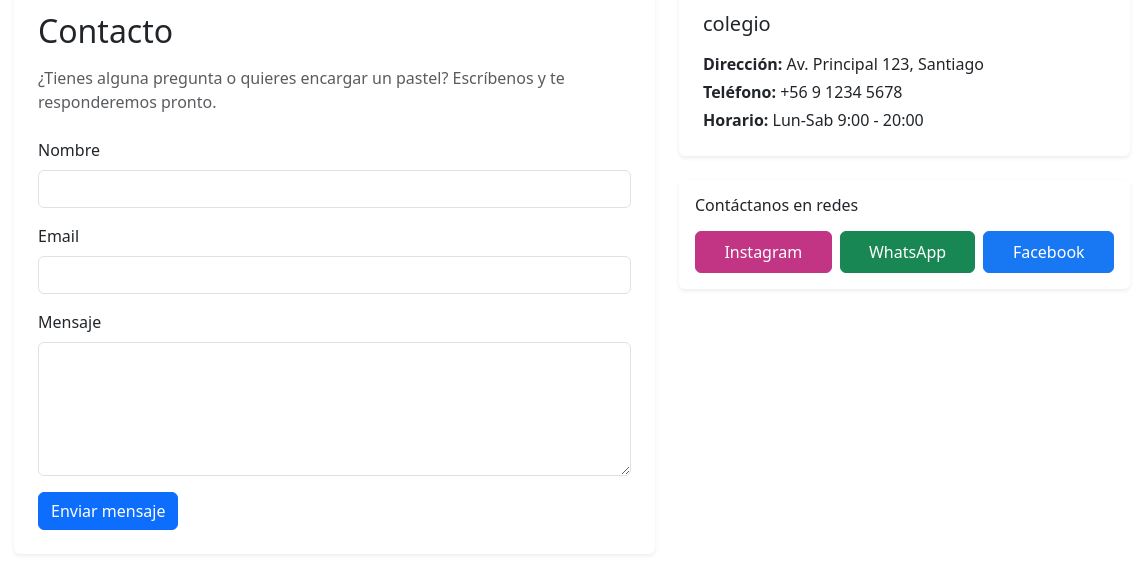
Test: Contacto page › debe enviar el formulario con datos válidos
This screenshot has width=1145, height=573.
Step 1. Type "Juan Pérez" into the field labelled "Nombre" → (334, 189), box [38,170,631,208]
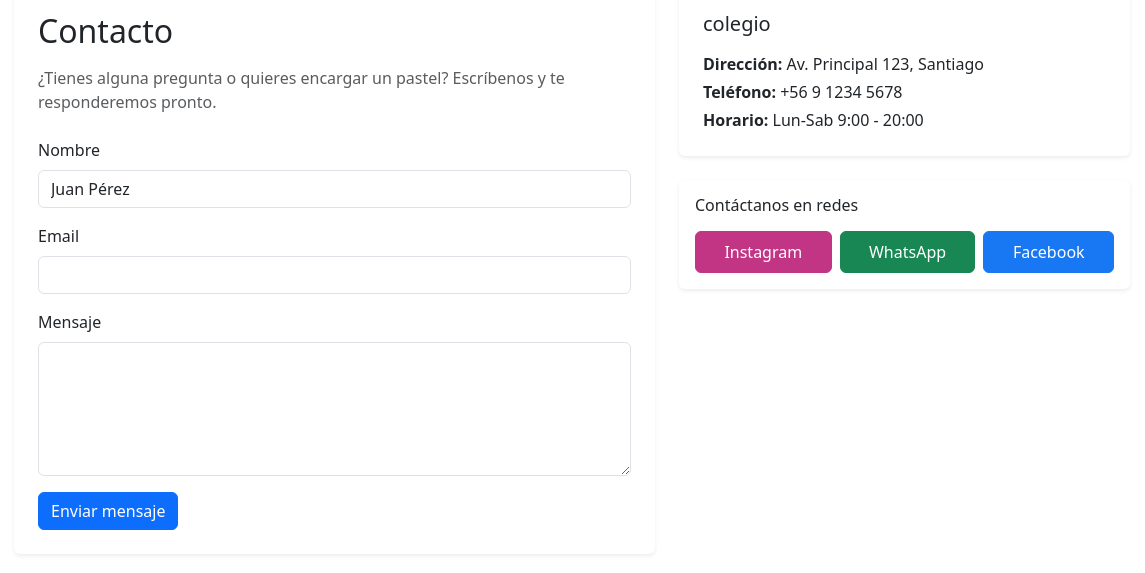
Step 2. Type "juan@example.com" into the field labelled "Email" → (334, 275), box [38,256,631,294]
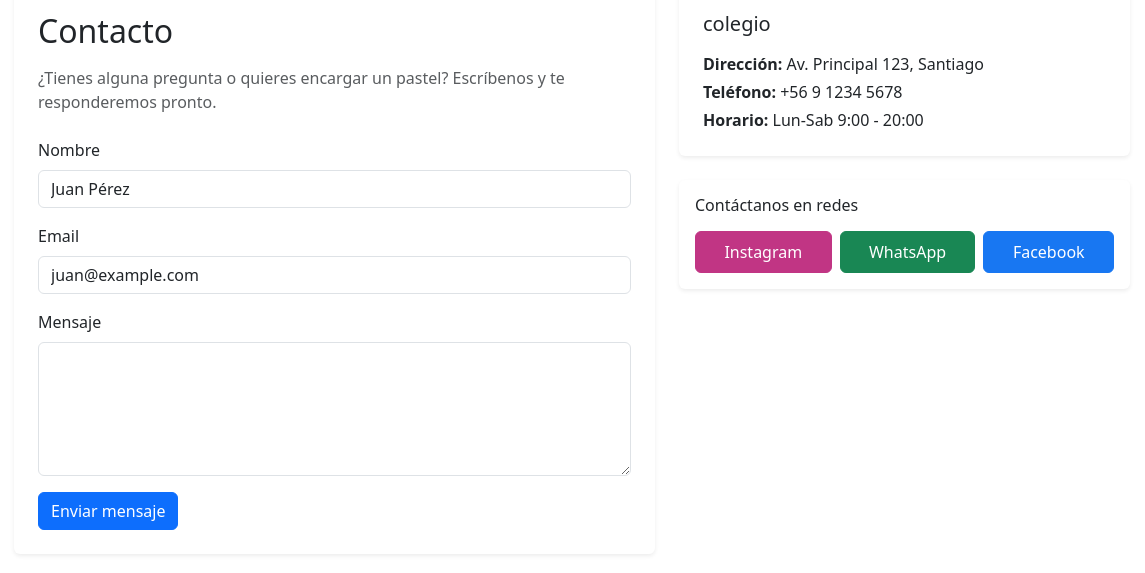
Step 3. Type "Este es un mensaje de prueba" into the text box labelled "Mensaje" → (334, 409), box [38,342,631,476]
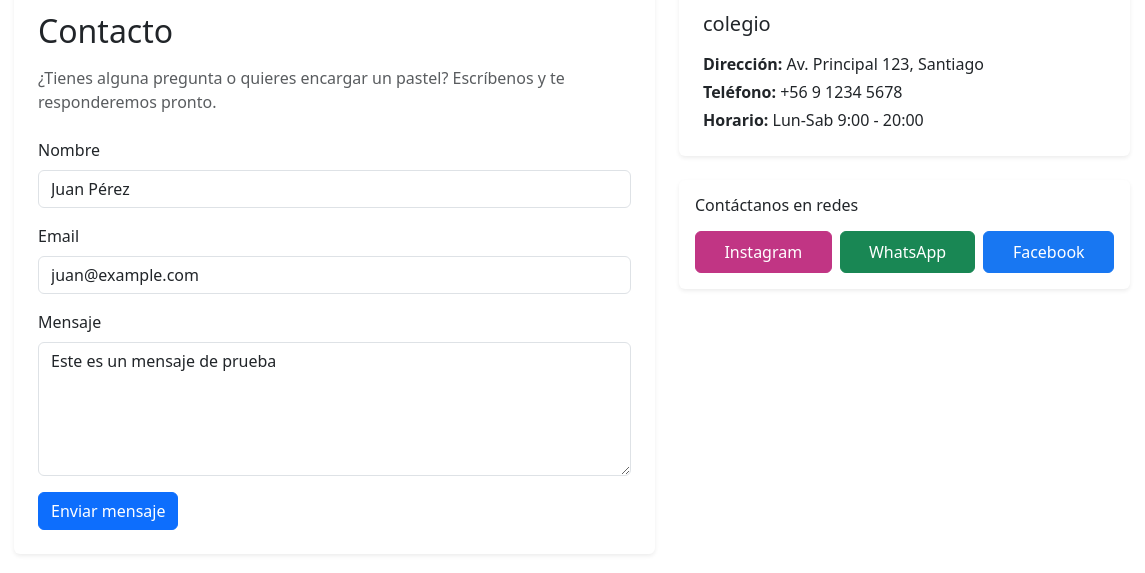
Step 4. Click the button "Enviar mensaje" → (108, 511), box [38,492,178,530]
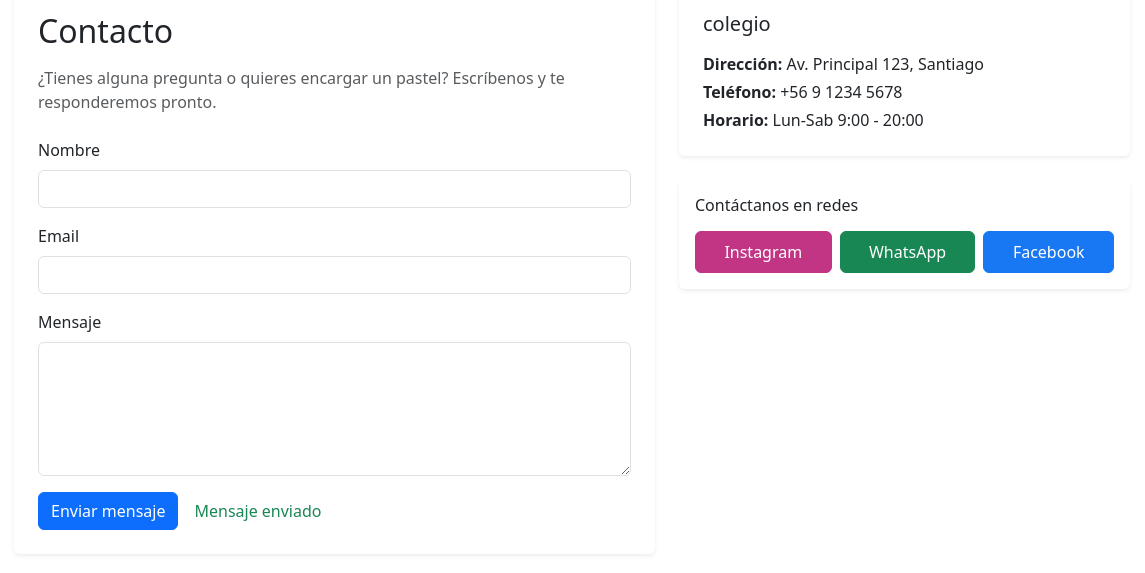
Result: the text "Mensaje enviado" is shown at [194,500,322,522]
